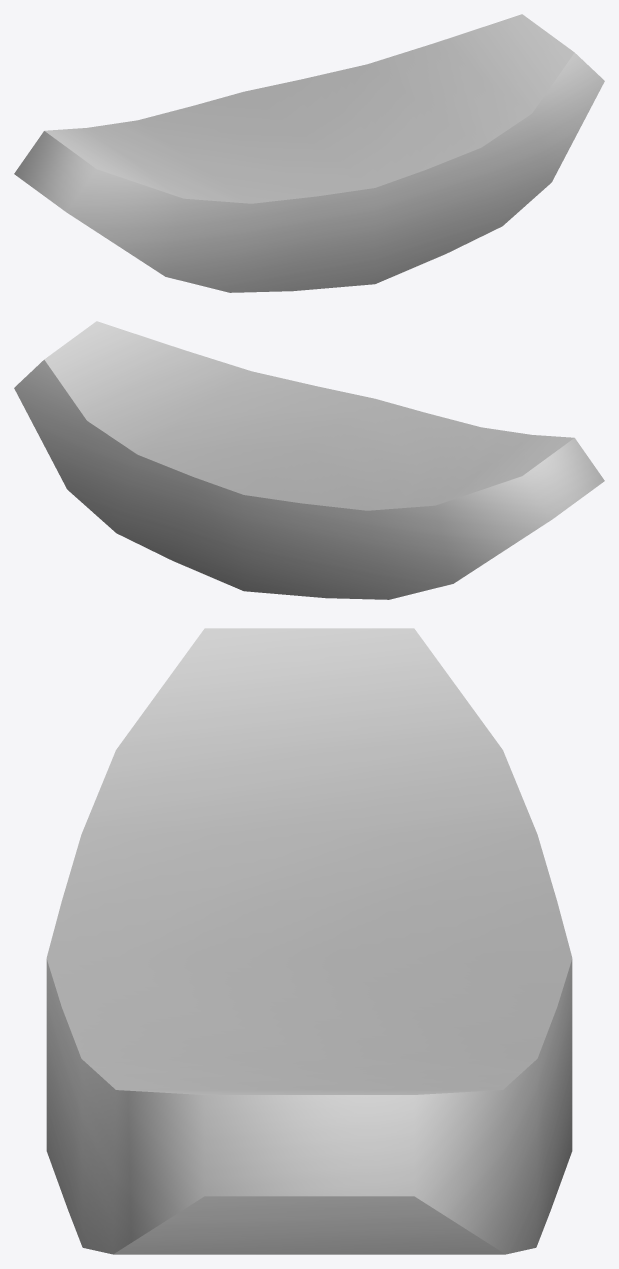
Rendered from stone_guard_057.glb.
3 renders of one model, top to bottom at view 1: azimuth 30°, elevation 25°; view 2: azimuth 150°, elevation 25°; view 3: azimuth 270°, elevation 25°, orthographic. The views are drawn at different scales.
Parts seen in each view (by area): view 1: stone_guard.057; view 2: stone_guard.057; view 3: stone_guard.057.
Part boxes in pixels (x1,y1,x2,y2): stone_guard.057: [14, 14, 604, 292]; stone_guard.057: [14, 321, 604, 599]; stone_guard.057: [46, 628, 572, 1254].
Size of the model in its own units: 6.9 by 1.77 by 2.92.
1 material, 1 textured.
